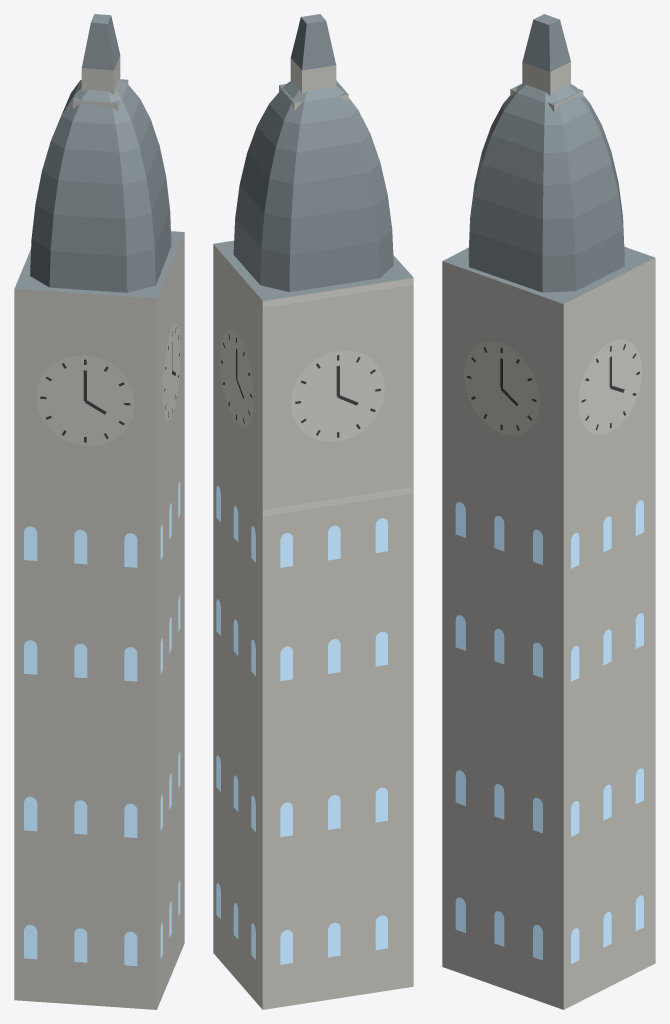
3 renders of one model, left to right at view 1: azimuth 30°, elevation 25°; view 2: azimuth 150°, elevation 25°; view 3: azimuth 270°, elevation 25°, orthographic.
Parts seen in each view (by area): view 1: stone, roof, trim, window, recess; view 2: stone, roof, trim, window, recess; view 3: stone, roof, trim, window, recess.
Boxes of the visible parts, box(x1,y1,x2,y2) form: stone: box(14, 56, 184, 1009); roof: box(14, 14, 184, 298); trim: box(36, 322, 180, 446); window: box(24, 482, 180, 965); recess: box(40, 327, 179, 442); stone: box(213, 58, 413, 1009); roof: box(213, 14, 413, 300); trim: box(220, 278, 413, 516); window: box(216, 485, 387, 964); recess: box(221, 334, 380, 437); stone: box(442, 61, 655, 1009); roof: box(443, 14, 654, 303); trim: box(464, 339, 642, 435); window: box(455, 500, 643, 963); recess: box(467, 344, 639, 430).
Size of the model in its own units: 13.66 by 67 by 13.68.
